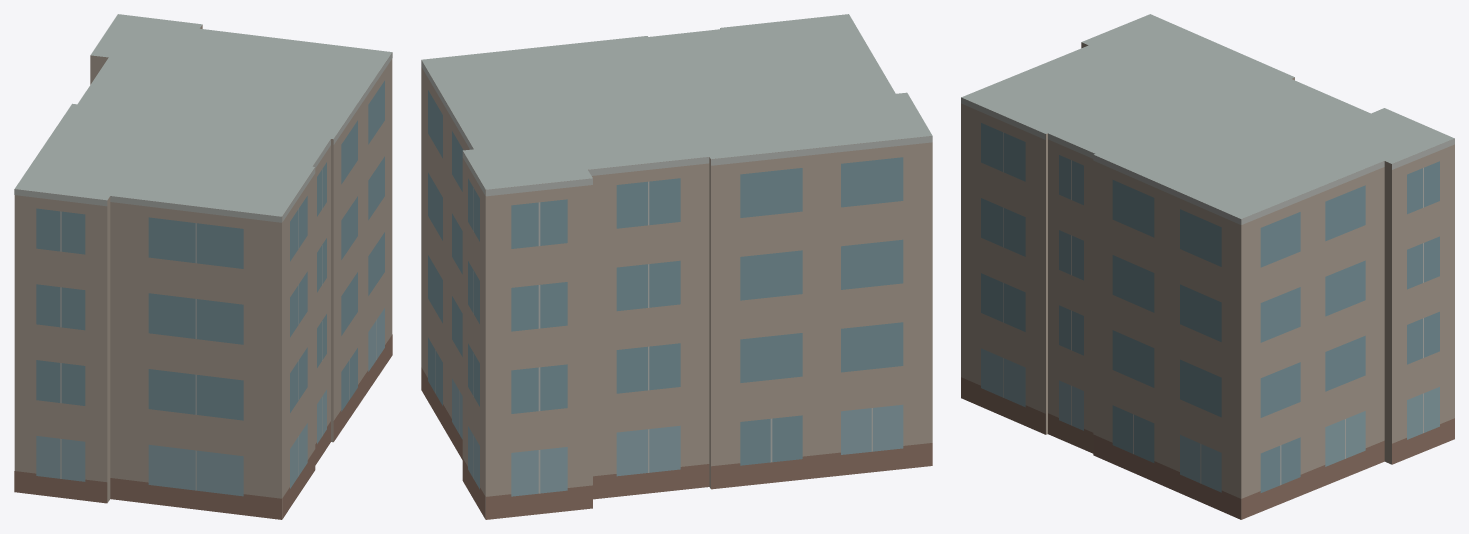
The model's file is survey-upis-32855495.glb.
3 views of the same model, side by side, from view 1: azimuth 30°, elevation 25°; view 2: azimuth 150°, elevation 25°; view 3: azimuth 270°, elevation 25° (orthographic). The views are drawn at different scales.
Visible parts, largest first — view 1: survey-upis-32855495.tmp; view 2: survey-upis-32855495.tmp; view 3: survey-upis-32855495.tmp.
Part boxes in pixels (x1,y1,x2,y2): survey-upis-32855495.tmp: (14,14,392,519); survey-upis-32855495.tmp: (421,14,932,519); survey-upis-32855495.tmp: (961,14,1454,519).
Bounding box in the file's own units: 17.86 × 12.2 × 18.16.
